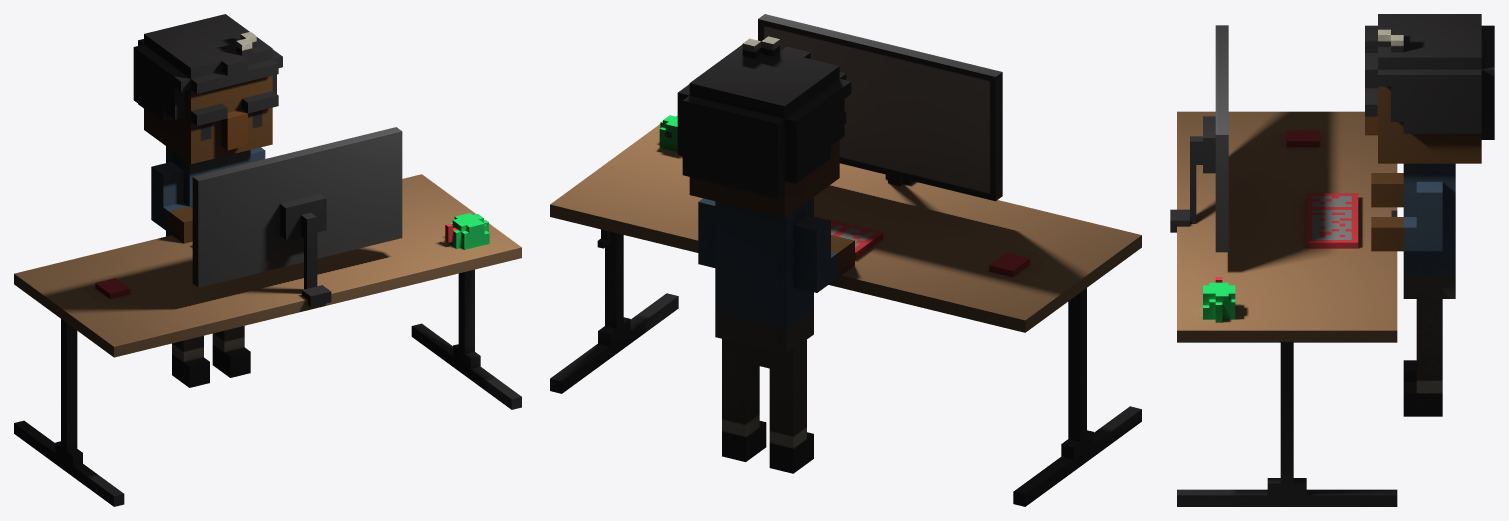
The model's file is daivd.glb.
3 renders of one model, left to right at view 1: azimuth 30°, elevation 25°; view 2: azimuth 150°, elevation 25°; view 3: azimuth 270°, elevation 25°, orthographic. The views are drawn at different scales.
Visible parts, largest first — view 1: Untitled; view 2: Untitled; view 3: Untitled.
Boxes of the visible parts, left/top/right/bottom form: Untitled: left=14, top=14, right=521, bottom=506; Untitled: left=550, top=14, right=1141, bottom=506; Untitled: left=1170, top=14, right=1494, bottom=506.
Size of what is drawn, in the model's own units: 8 by 6.4 by 5.
1 material, 1 textured.
